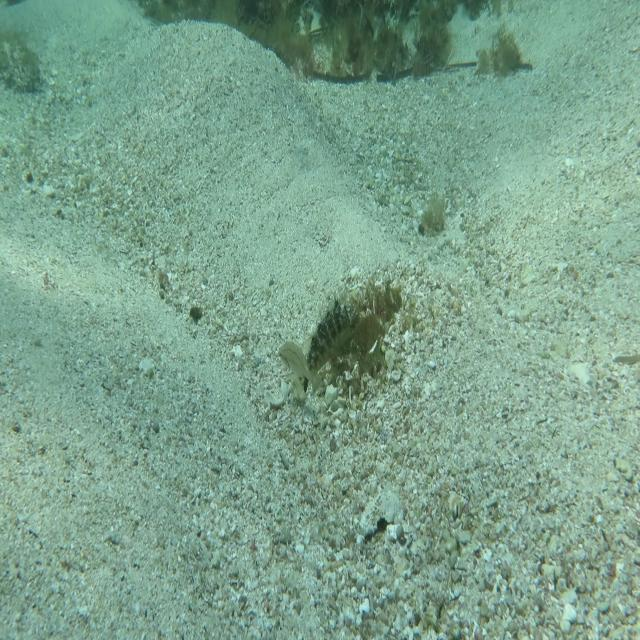BEND: (290, 290, 364, 405)
female: (270, 341, 328, 392)
nest: (310, 267, 404, 401)
vegetation: (244, 0, 512, 71), (416, 182, 450, 237)
